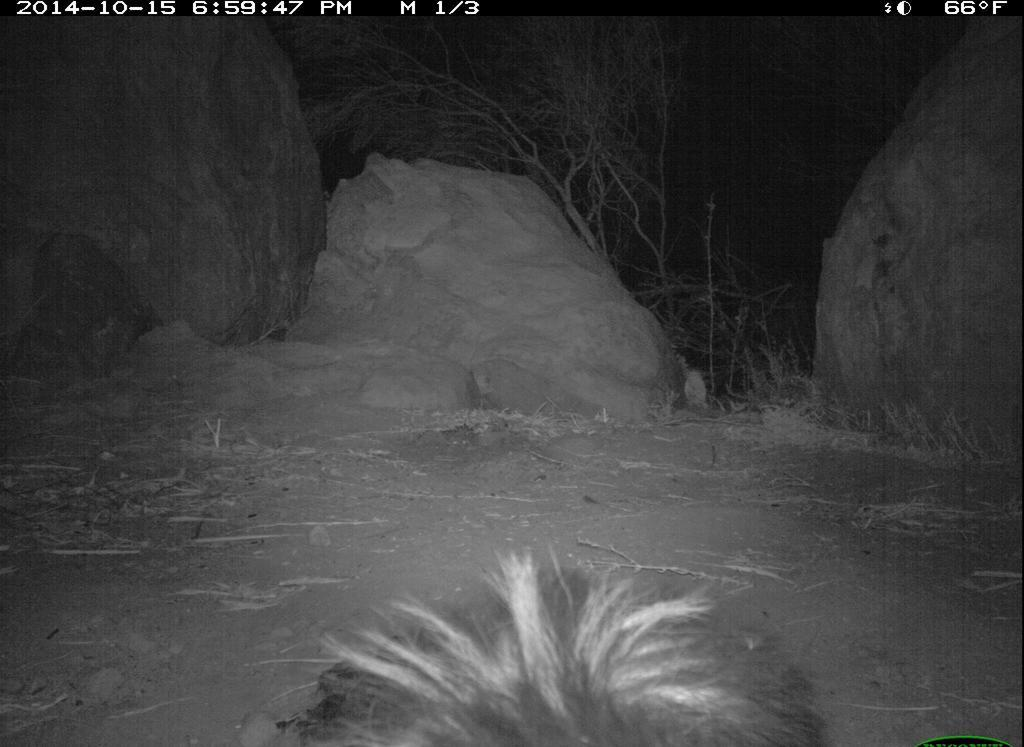skunk: (272, 550, 833, 742)
